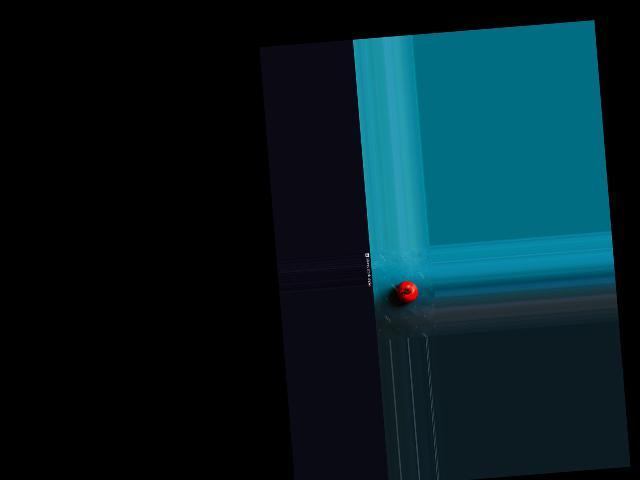tomato: (395, 280, 418, 303)
